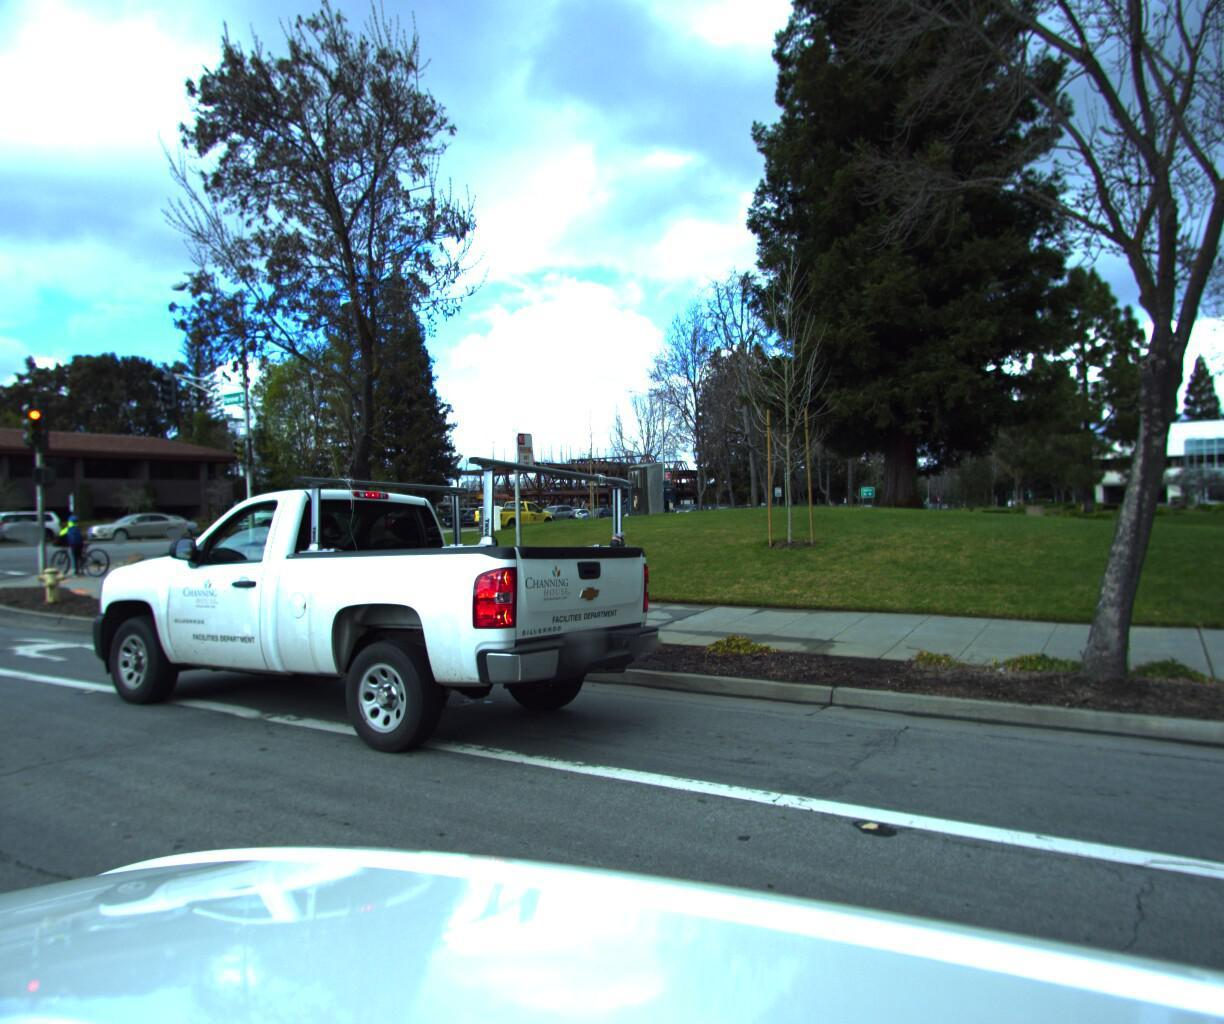bicycle: (35, 509, 123, 573)
car: (58, 409, 701, 759), (231, 494, 350, 535), (468, 486, 558, 528), (78, 507, 196, 539), (93, 505, 206, 538), (0, 505, 79, 545), (0, 499, 21, 553), (526, 499, 579, 520), (551, 496, 599, 514)
